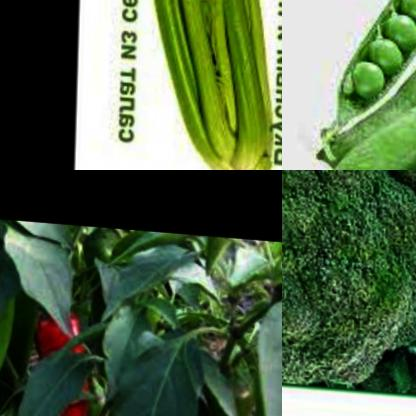beans: (313, 0, 416, 170), (305, 0, 416, 137)
broccoli: (282, 170, 416, 387)
celery: (134, 0, 282, 170)
hot pepper: (29, 292, 99, 416), (0, 256, 51, 416), (191, 339, 282, 416), (0, 230, 24, 416)
